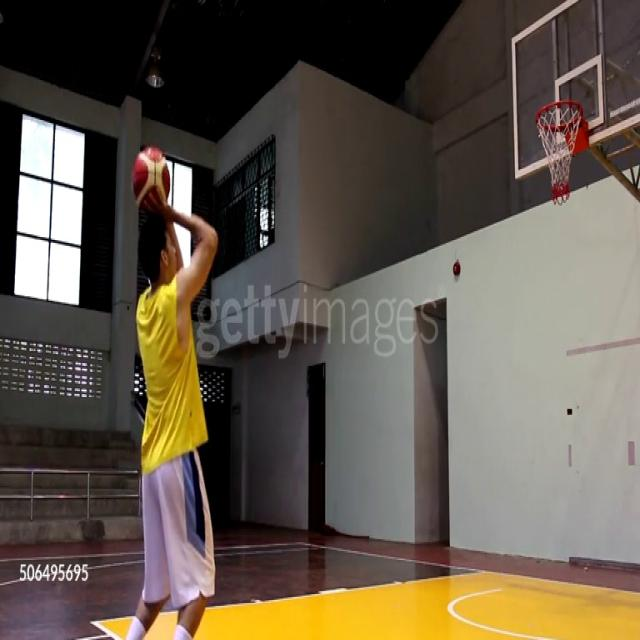ball: (132, 144, 170, 215)
